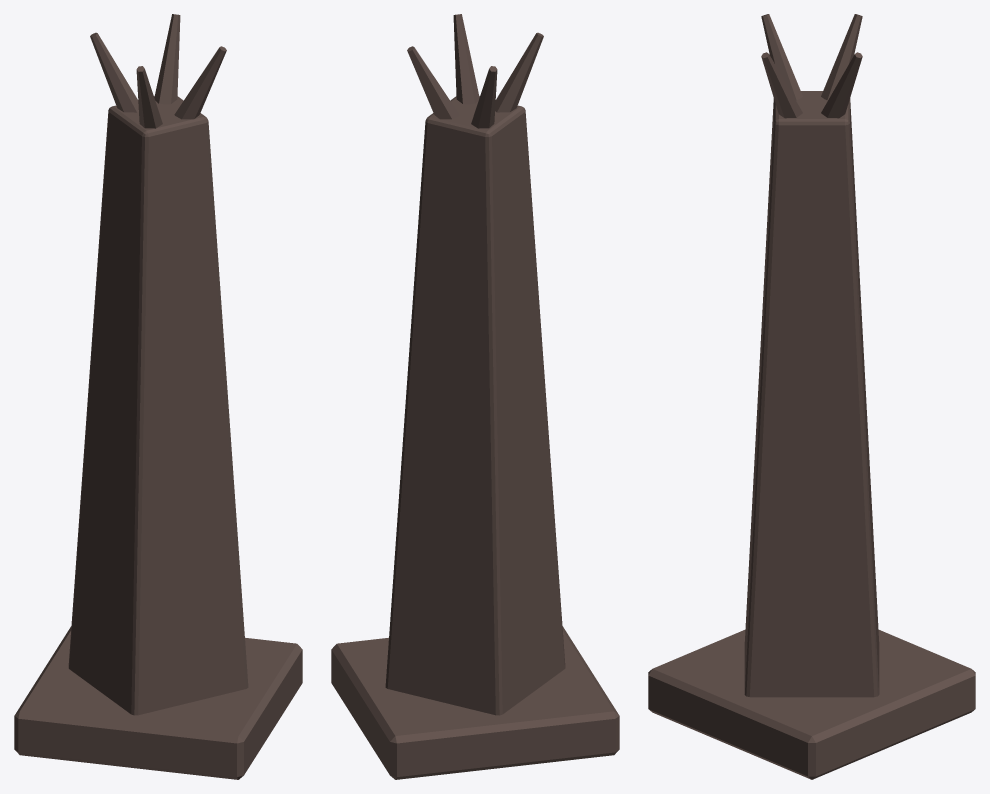
Rendered from kit_robelisk.ol.glb.
3 renders of one model, left to right at view 1: azimuth 30°, elevation 25°; view 2: azimuth 150°, elevation 25°; view 3: azimuth 270°, elevation 25°, orthographic.
Visible parts, largest first — view 1: outline; view 2: outline; view 3: outline.
Part boxes in pixels (bbox=[...]): outline: bbox=[14, 14, 302, 779]; outline: bbox=[331, 14, 619, 779]; outline: bbox=[648, 14, 975, 779].
Bounding box in the file's own units: 5.9 × 13.51 × 5.9.
